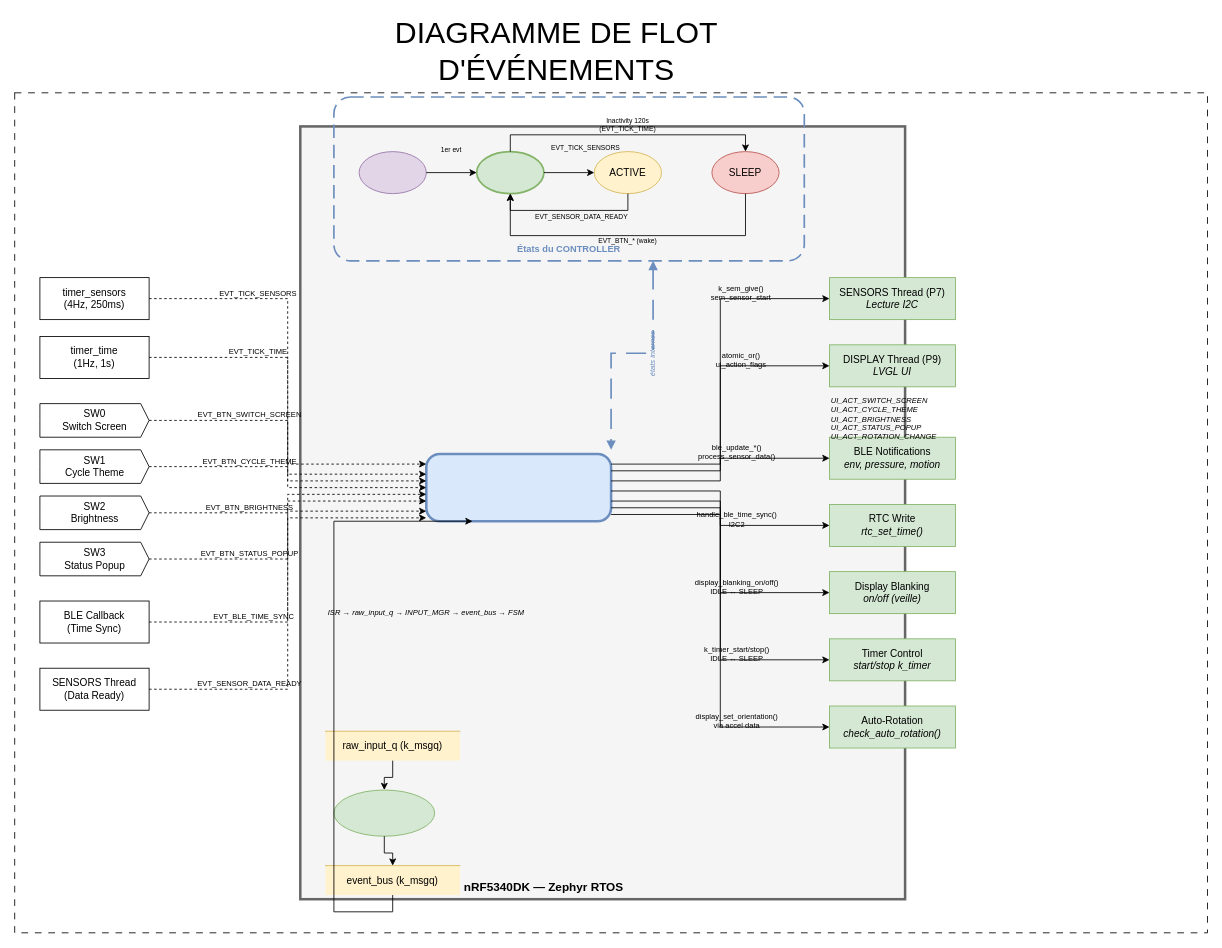
This 1222x948 diagram has some shape labels left out. Each missing label, with the centre of its shape:
"IDLE" belongs at (509,172).
"INIT" belongs at (392,172).
"INPUT_MGR (P3)" belongs at (384,812).
"MACHINE D'ÉTATS (CONTROLLER Thread P5) 4 états : voir ci-dessus ▲" belongs at (518,487).
